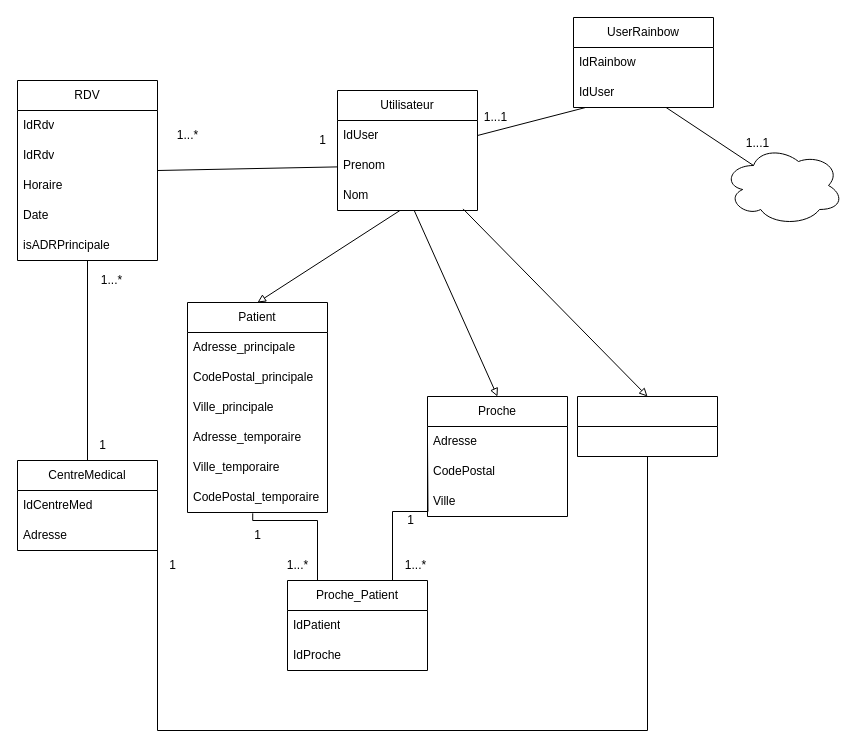
Some shapes in this 861 by 749 pixel diagram are drawn without their labels. Each missing label, with the centre of its shape:
"BDD Rainbow" goes at point (783, 185).
"PersonnelMedical" goes at point (647, 426).
